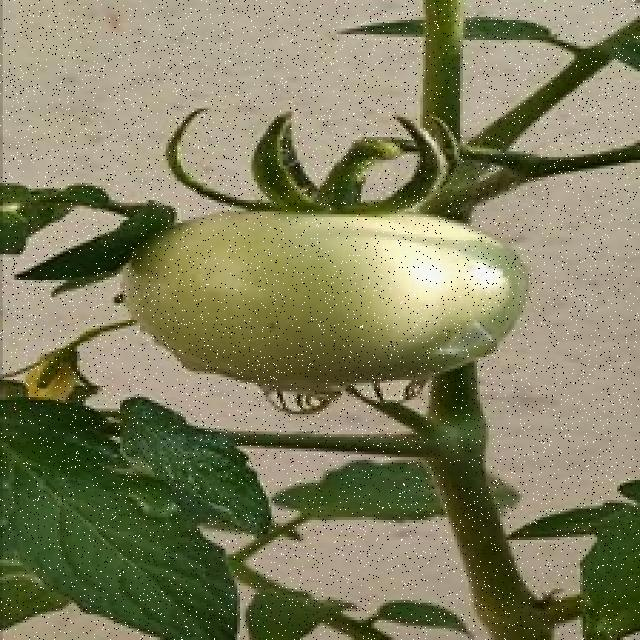Tomato: (101, 150, 592, 452)
